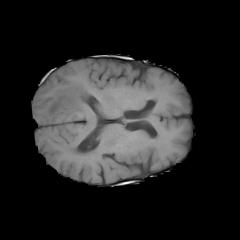glioma: (48, 81, 91, 118)
